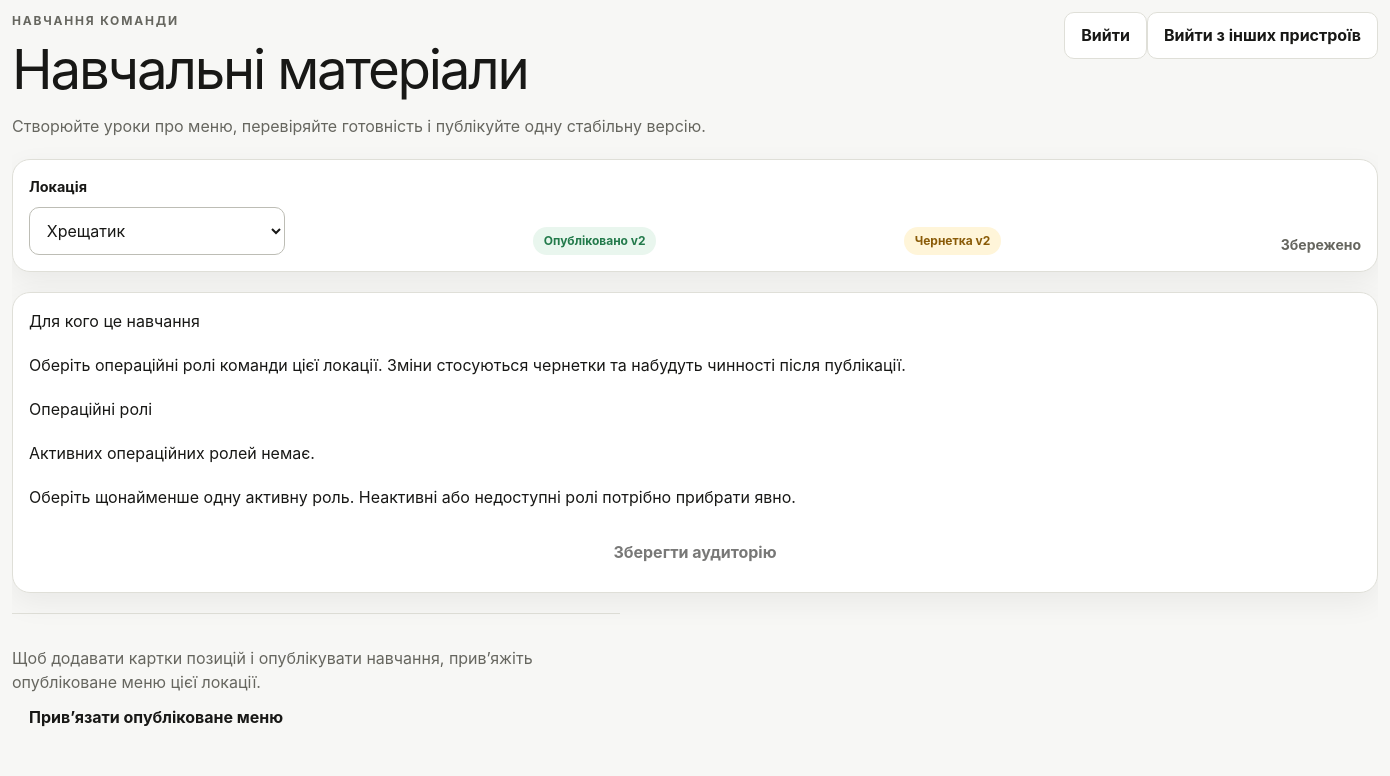
Test: Admin Training workspace › keeps recovery actionable after bound
What coordinates should you click on to do the following:
click the button "Прив’язати опубліковане меню"
I would click on:
 (156, 717)
Its box is [12,694,300,740].
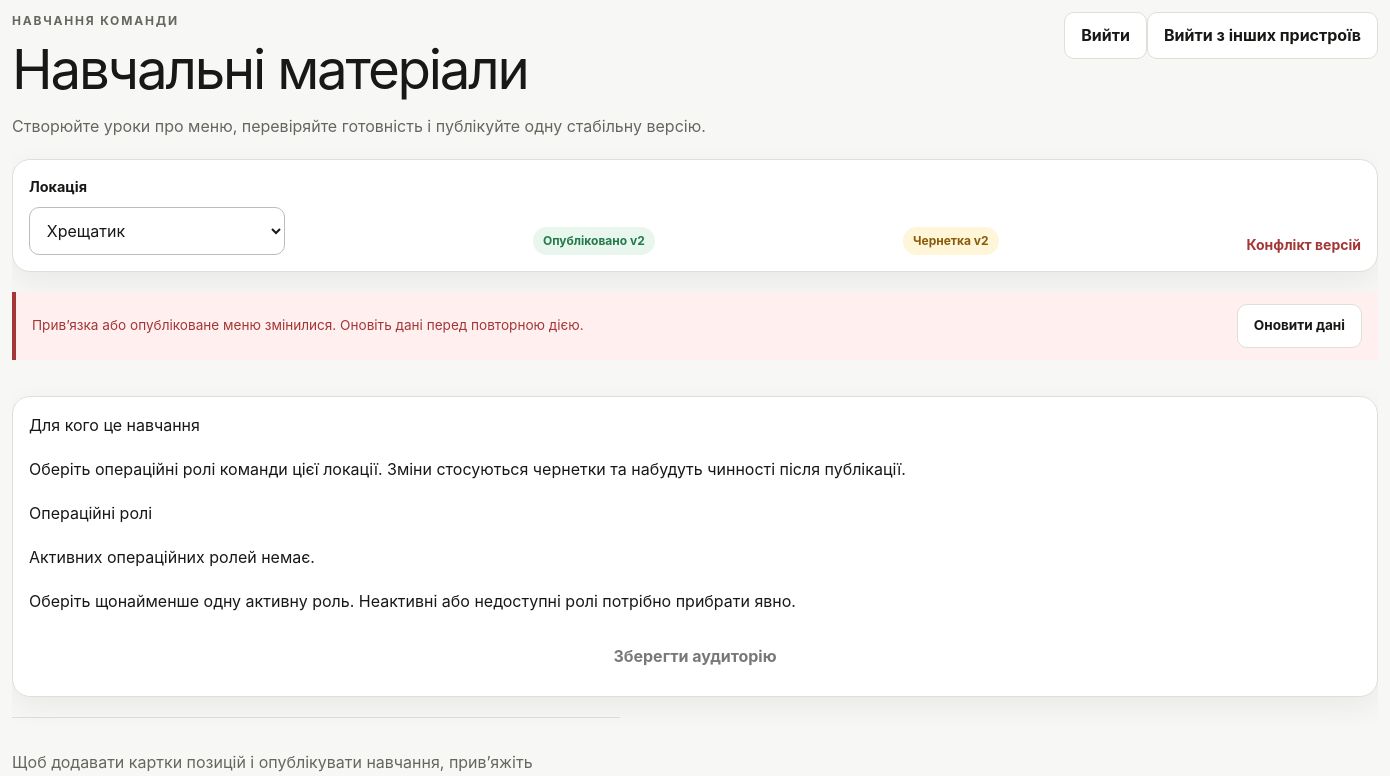
Now the message shows "Прив’язка або опубліковане меню змінилися. Оновіть дані перед повторною дією.", box [32,317,584,333]
Now the button "Оновити дані" is shown, box [1237,304,1362,348]
